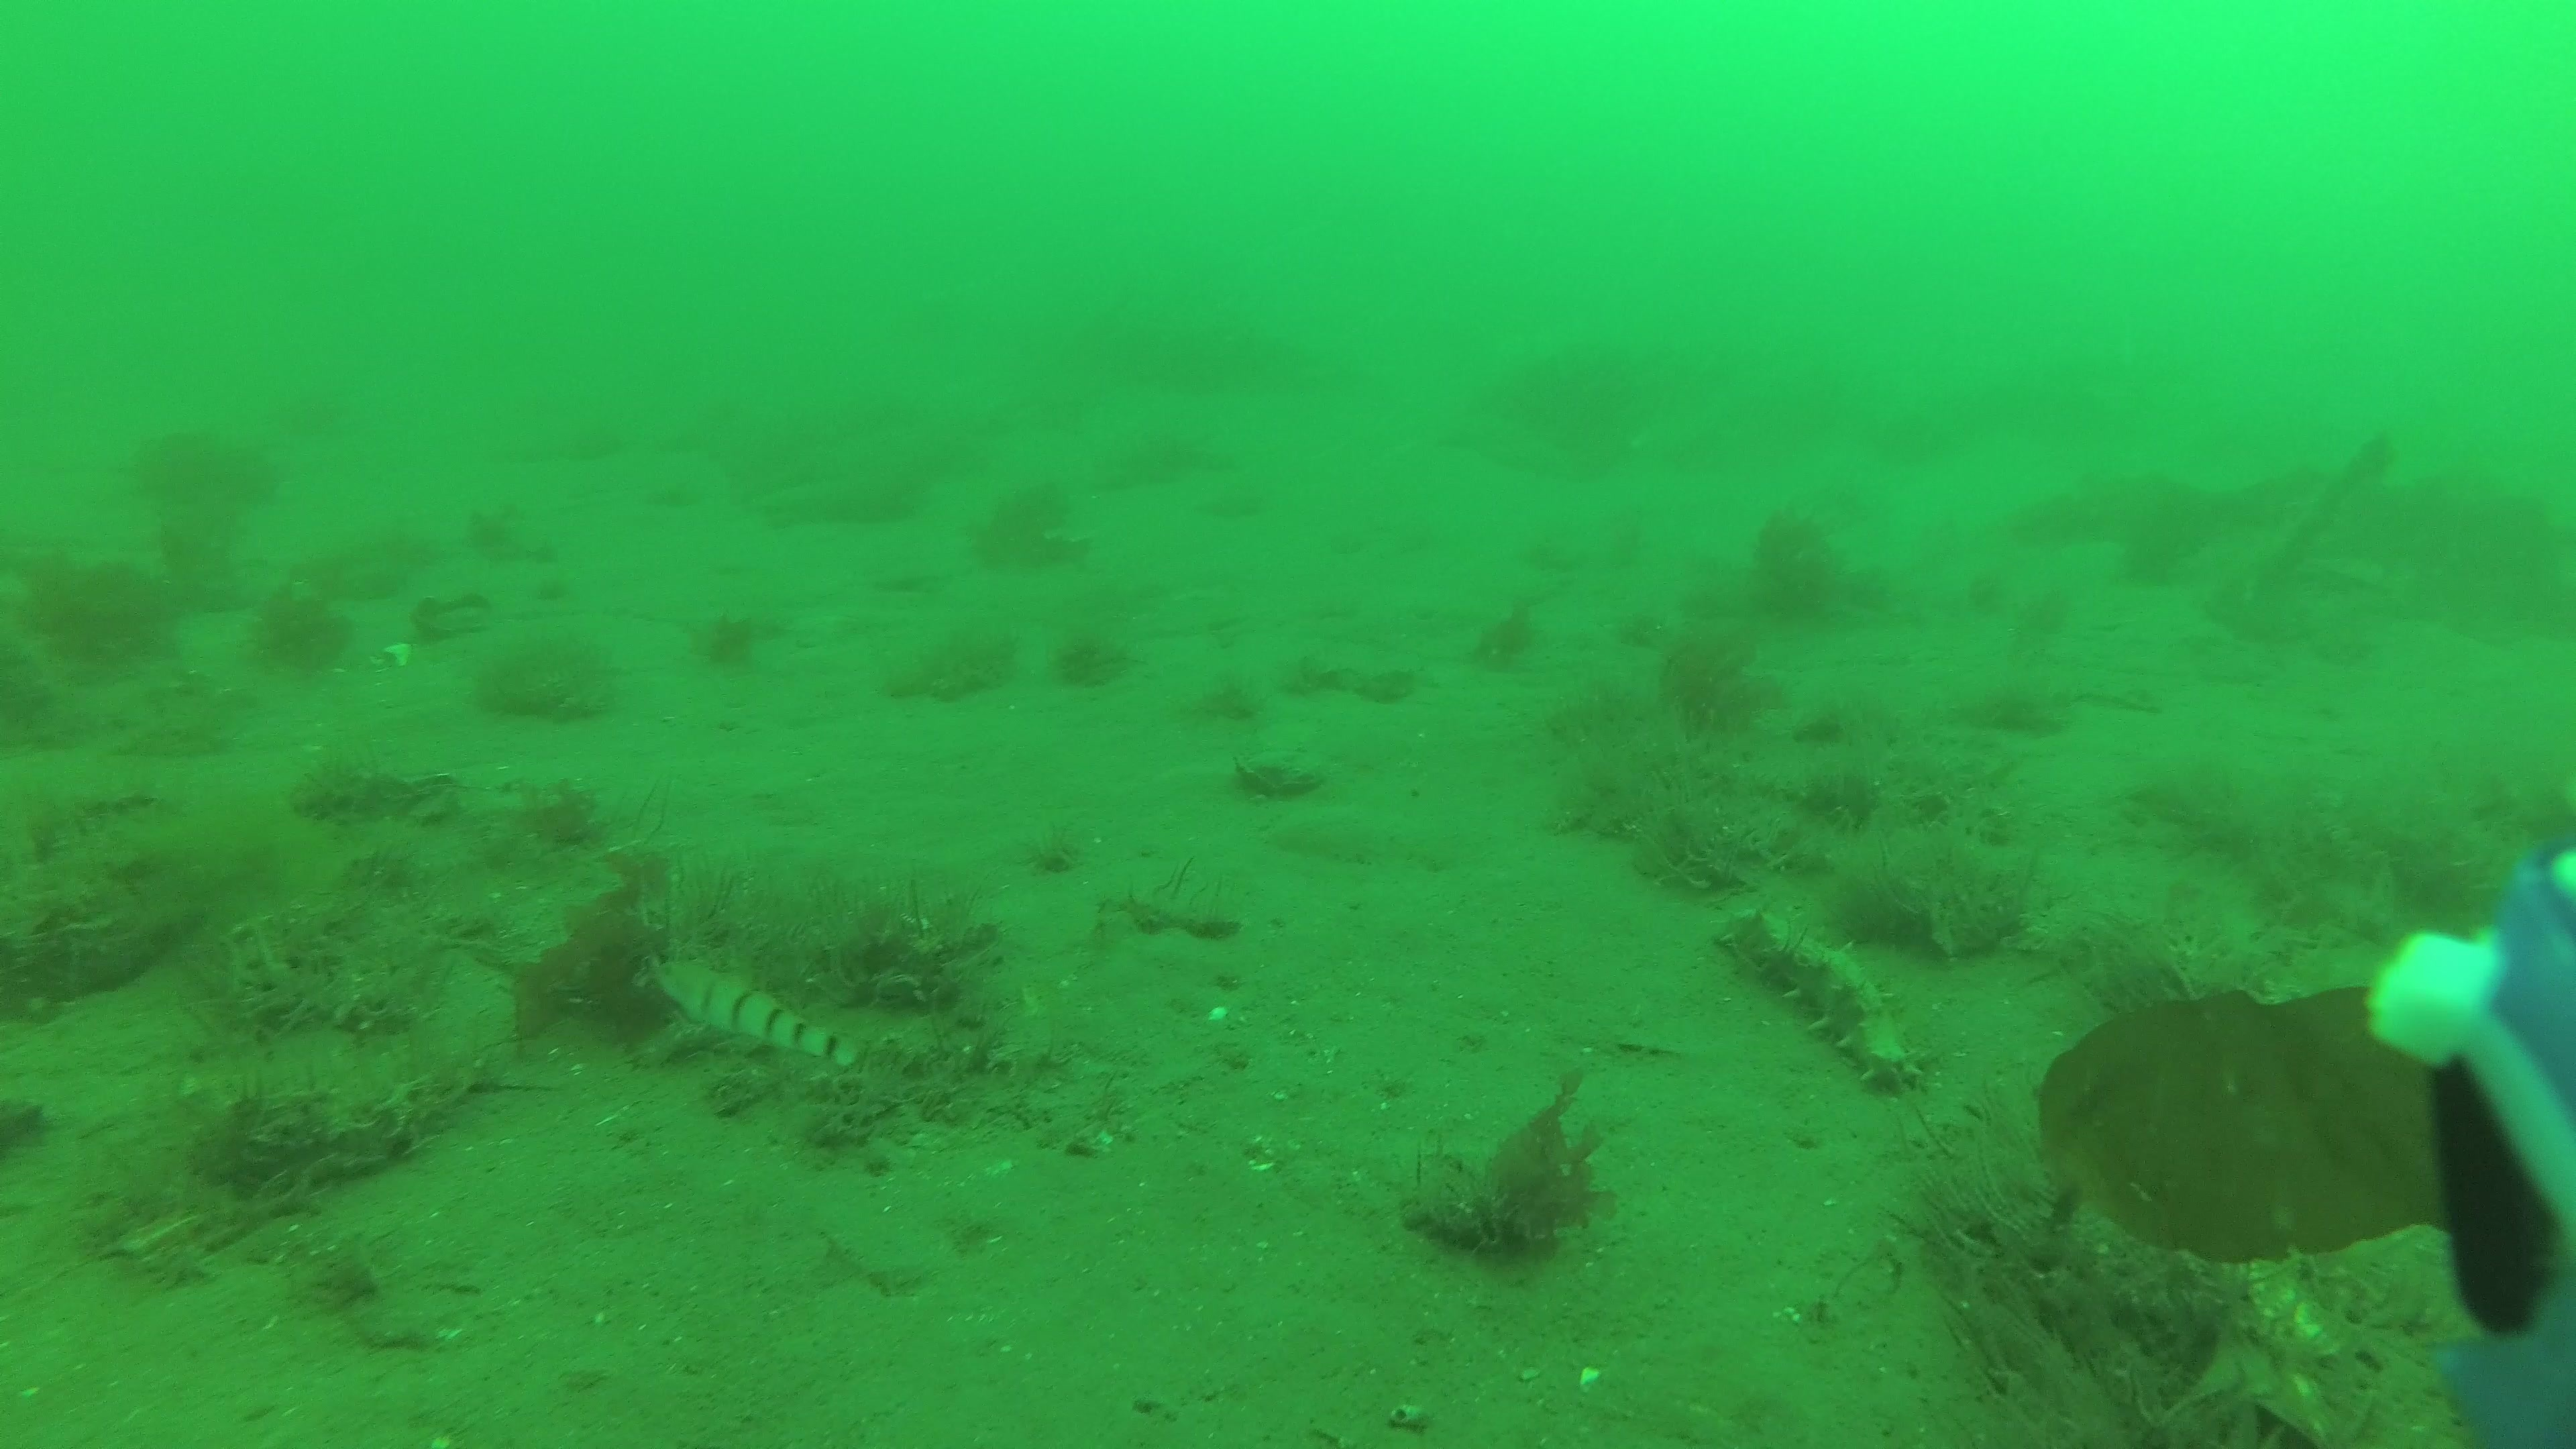holothurian: (1709, 899, 1928, 1097)
